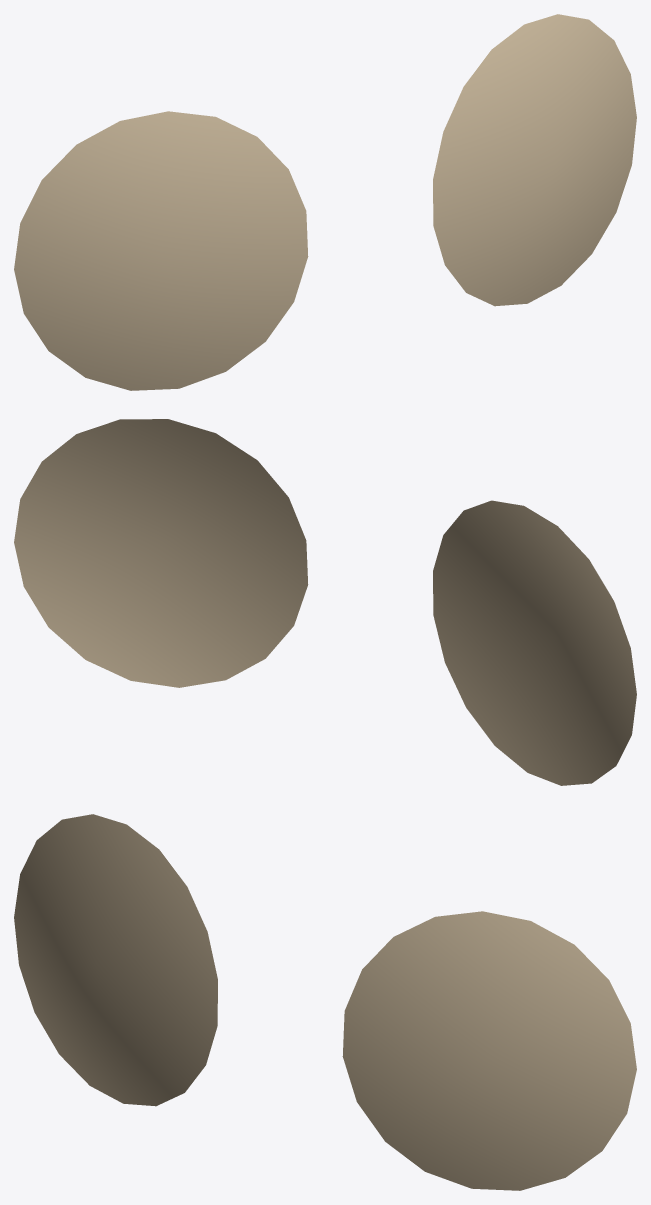
Rendered from S12_Plant04_L2_Eye.glb.
3 views of the same model, one above another, from view 1: azimuth 30°, elevation 25°; view 2: azimuth 150°, elevation 25°; view 3: azimuth 330°, elevation 25° (orthographic).
Visible parts, largest first — view 1: S12_Plant04_L2_Eye__Eye_M__surface0__lod0; view 2: S12_Plant04_L2_Eye__Eye_M__surface0__lod0; view 3: S12_Plant04_L2_Eye__Eye_M__surface0__lod0.
Boxes of the visible parts, <box> form: S12_Plant04_L2_Eye__Eye_M__surface0__lod0: <box>14,14,636,390</box>; S12_Plant04_L2_Eye__Eye_M__surface0__lod0: <box>14,419,636,785</box>; S12_Plant04_L2_Eye__Eye_M__surface0__lod0: <box>14,814,636,1190</box>.
Size of the model in its own units: 59.65 by 24.99 by 7.52.
